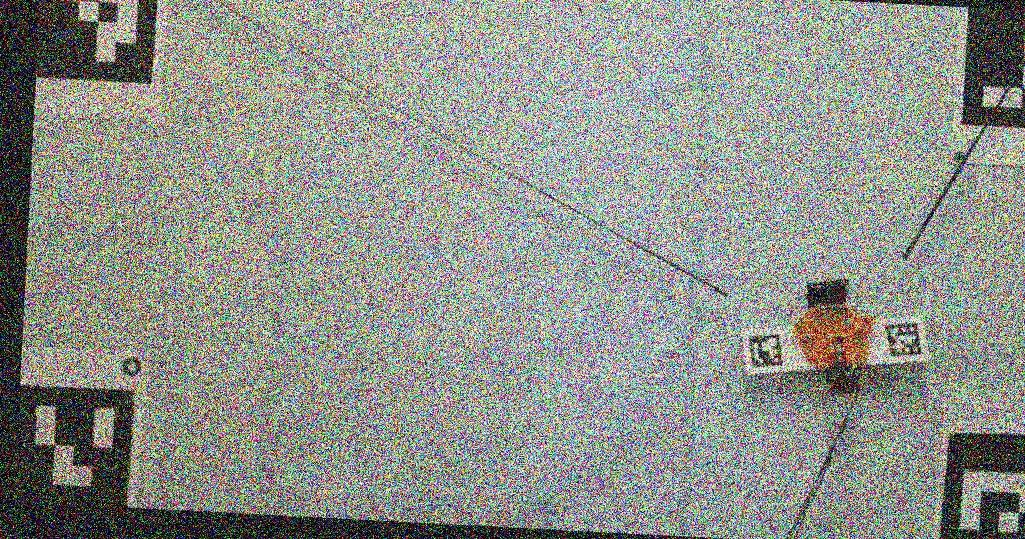robot: (791, 278, 873, 392)
